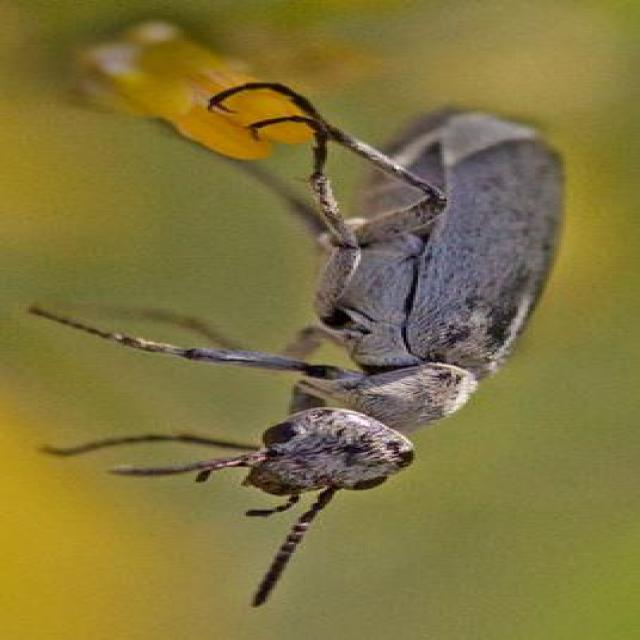BlisterBeetle-Adult-: (28, 48, 578, 617)
